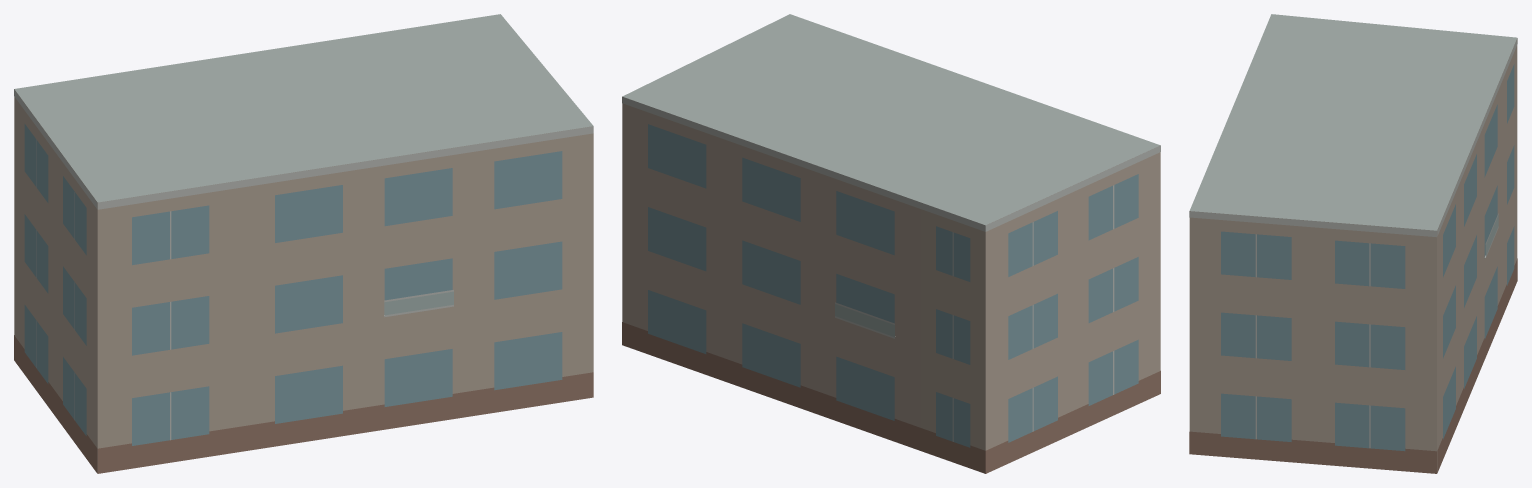
Rendered from survey-upis-32879106.glb.
3 renders of one model, left to right at view 1: azimuth 30°, elevation 25°; view 2: azimuth 150°, elevation 25°; view 3: azimuth 270°, elevation 25°, orthographic. The views are drawn at different scales.
Parts seen in each view (by area): view 1: survey-upis-32879106.tmp; view 2: survey-upis-32879106.tmp; view 3: survey-upis-32879106.tmp.
Part boxes in pixels (box(x1,y1,x2,y2)): survey-upis-32879106.tmp: box(14, 14, 593, 473); survey-upis-32879106.tmp: box(622, 14, 1160, 473); survey-upis-32879106.tmp: box(1189, 14, 1517, 473).
Bounding box in the file's own units: 17.5 × 9.15 × 11.2.
